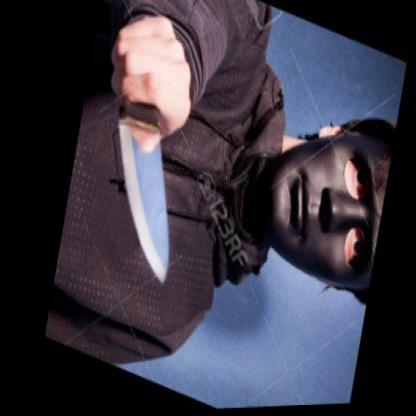knife: (54, 13, 224, 302)
